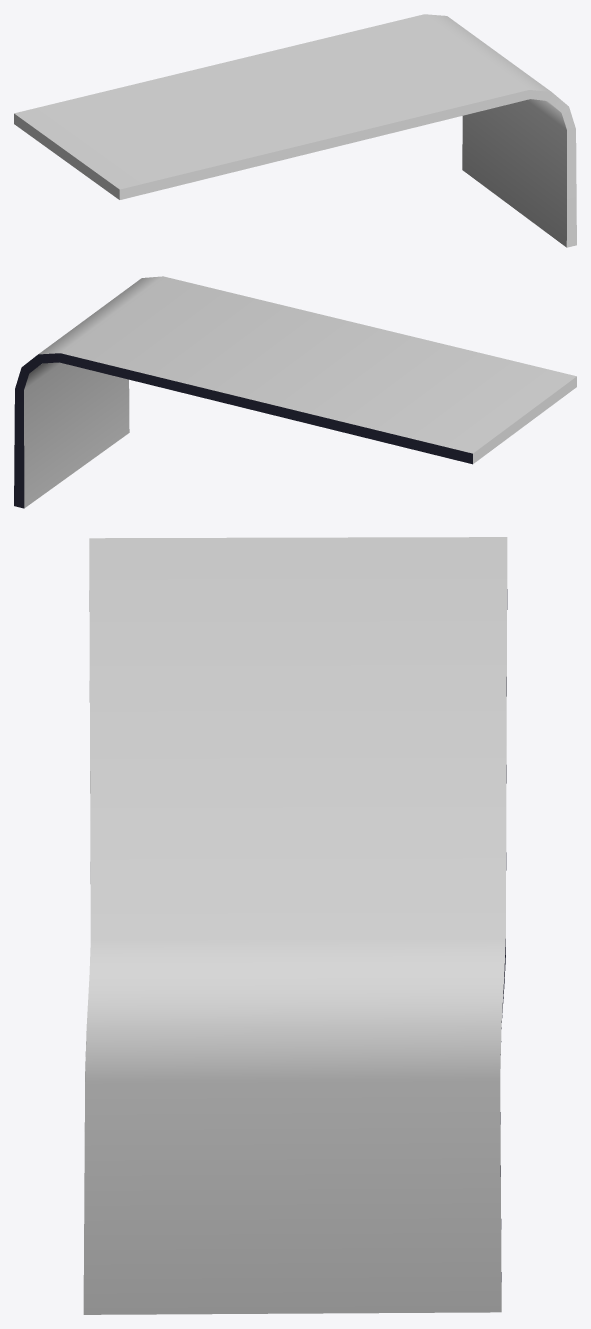
The model's file is WORKDESK.glb.
3 views of the same model, one above another, from view 1: azimuth 30°, elevation 25°; view 2: azimuth 150°, elevation 25°; view 3: azimuth 270°, elevation 25° (orthographic). The views are drawn at different scales.
Parts seen in each view (by area): view 1: WORKDESK; view 2: WORKDESK; view 3: WORKDESK.
Boxes of the visible parts, <box> form: WORKDESK: <box>14,14,576,247</box>; WORKDESK: <box>14,276,576,508</box>; WORKDESK: <box>83,537,507,1314</box>.
Bounding box in the file's own units: 3.76 × 1.3 × 1.51.
